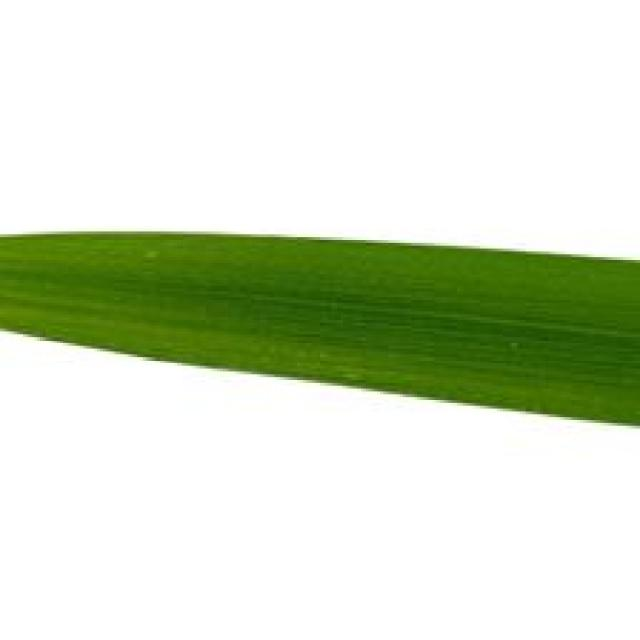Rice___Healthy_Rice_Plant: (3, 231, 637, 424)
